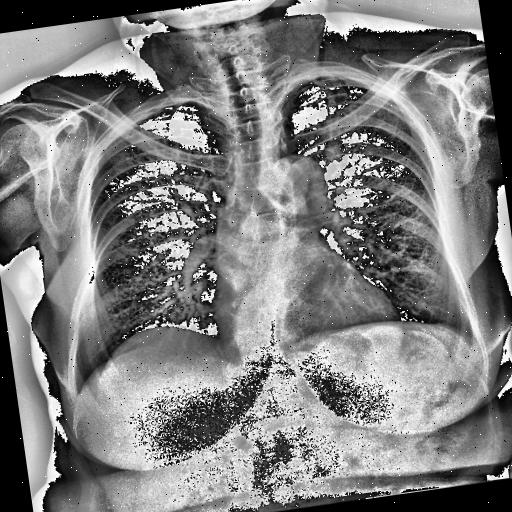0- Aortic enlargement: (260, 152, 334, 228), (258, 145, 330, 218), (271, 150, 327, 201)
9- Other lesion: (208, 286, 298, 394)
